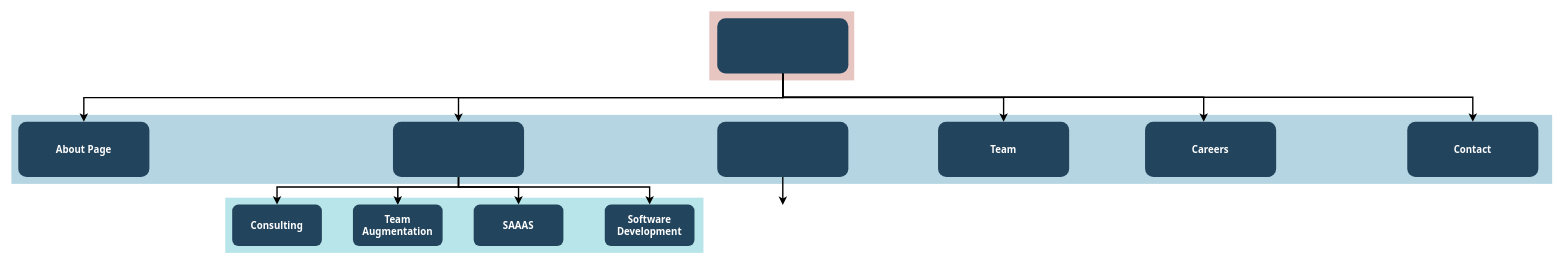
This 1564x264 diagram has some shape labels left out. The shapes that lost their labels are listed below. From the top down, each one's centre as x and y in pixels, then its label:
[782,45]: Home Page
[458,149]: Services
[782,149]: Blog
